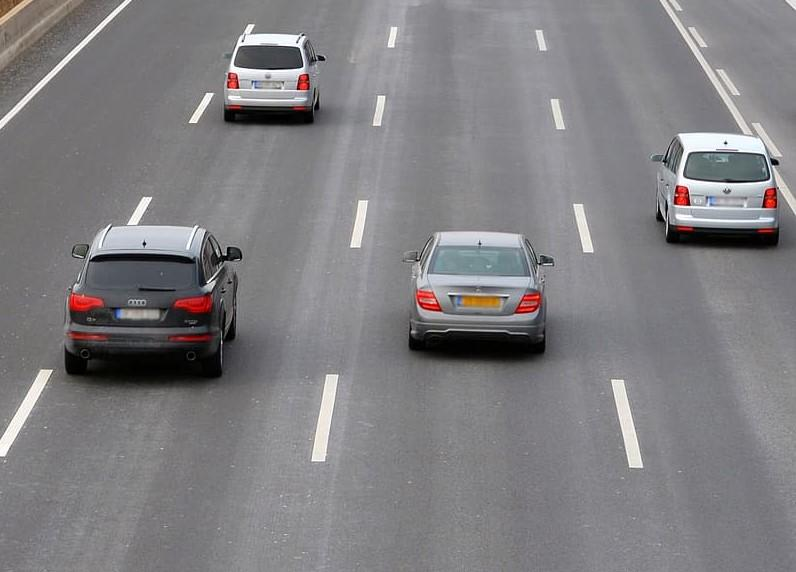car: (59, 208, 268, 393), (381, 208, 565, 380), (639, 115, 796, 282), (199, 20, 337, 152)
